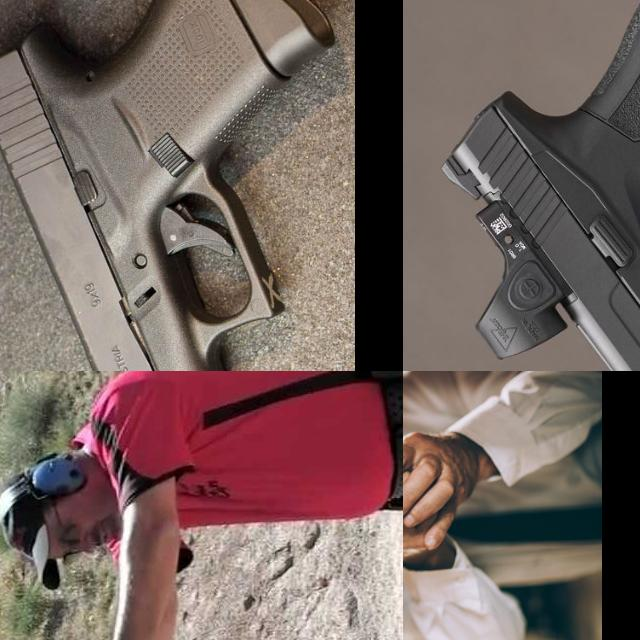handgun: (0, 0, 335, 371), (435, 0, 640, 371), (403, 414, 461, 527)
